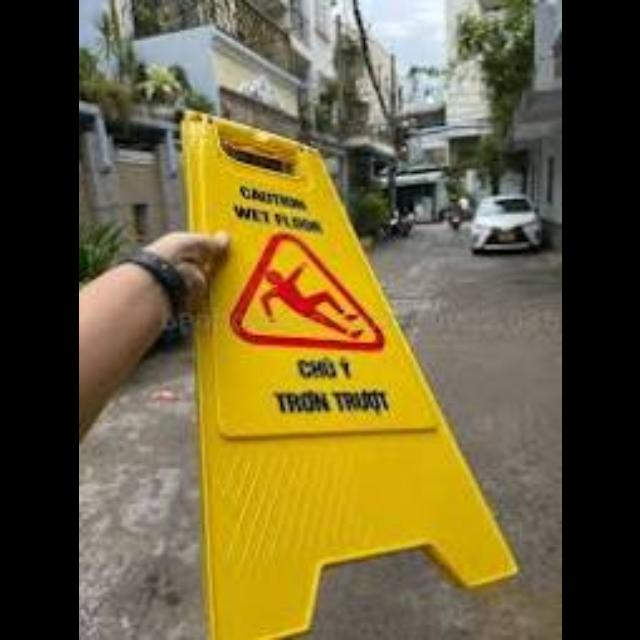slippery_floor: (184, 116, 511, 637)
